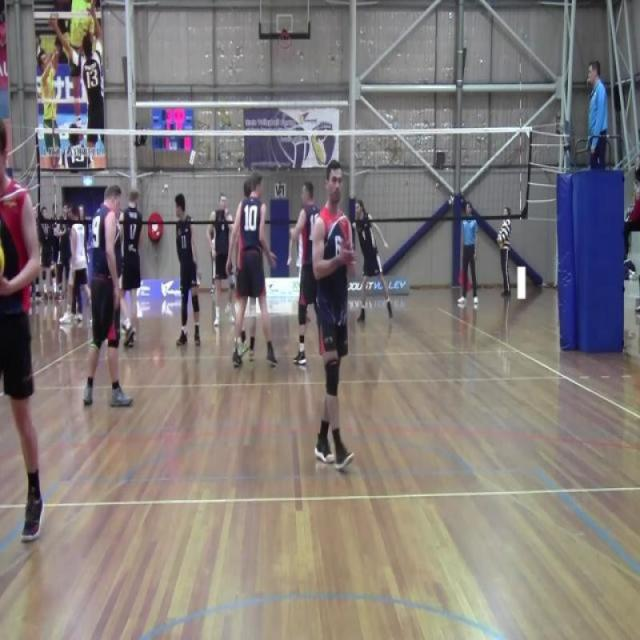volleyball: (0, 235, 6, 283)
